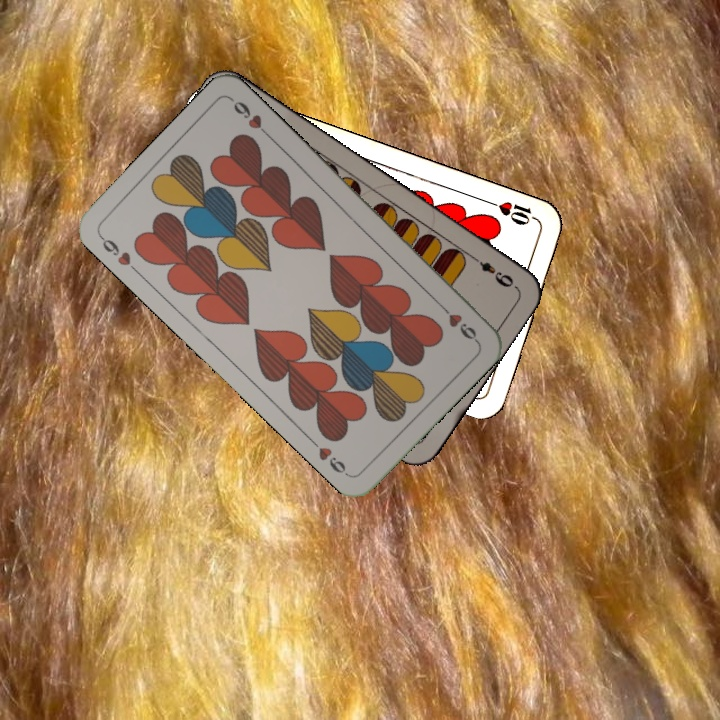E9: (467, 251, 516, 291)
H10: (484, 197, 542, 228)
H9: (434, 298, 480, 345), (96, 231, 142, 277)
